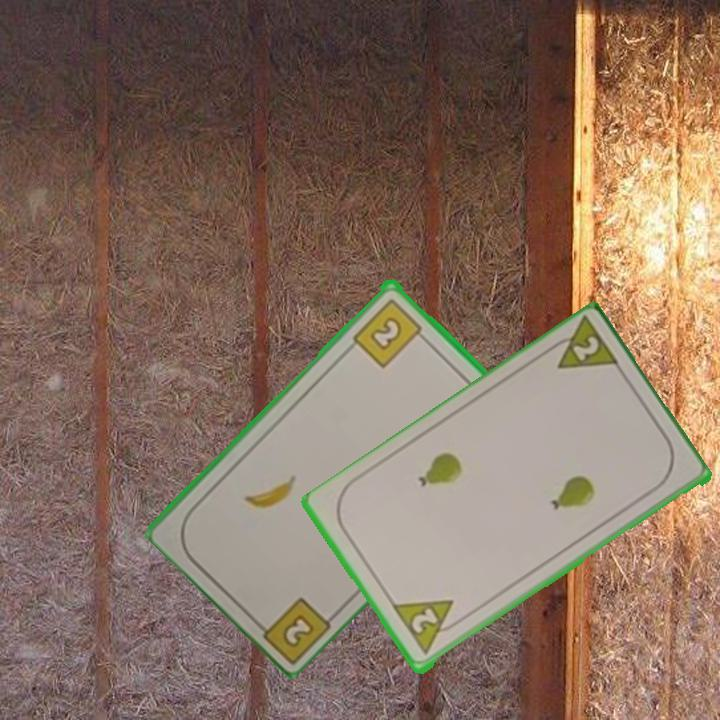2b: (249, 592, 335, 664), (349, 294, 430, 370)
2p: (541, 315, 623, 373), (390, 596, 466, 658)
